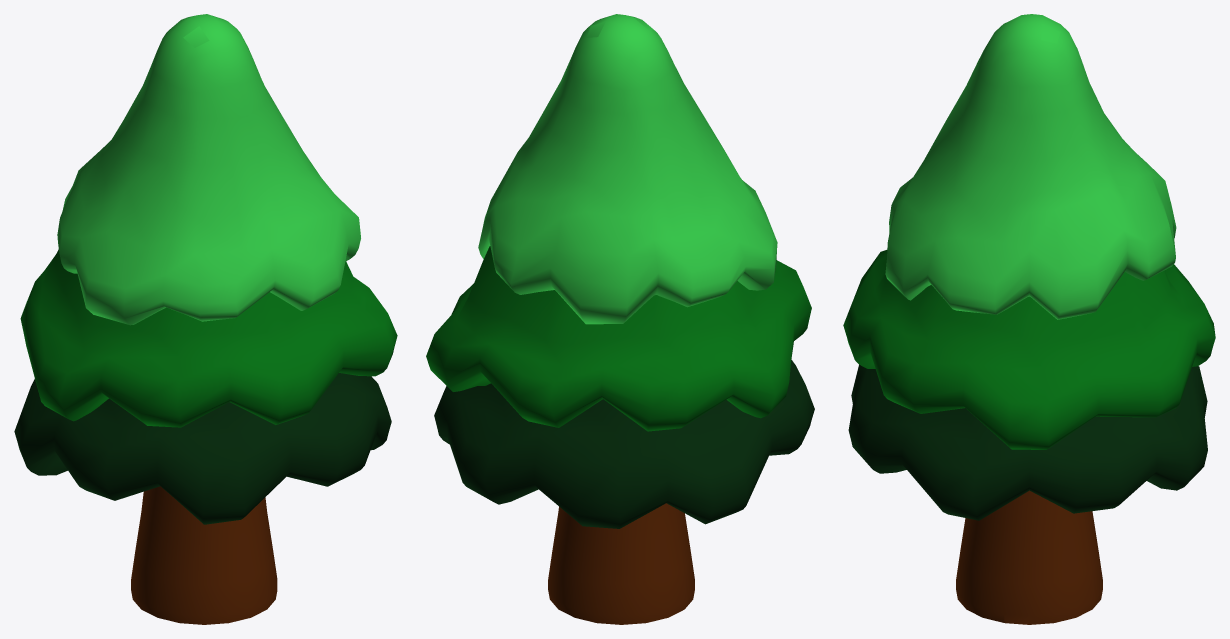
File: Sapin_01_v2.fbx
The picture shows the model from 3 angles, left to right: view 1: azimuth 30°, elevation 25°; view 2: azimuth 150°, elevation 25°; view 3: azimuth 270°, elevation 25°; orthographic projection.
Parts seen in each view (by area): view 1: Feuilles_Haut_low003, Feuilles_Milieu_low002, Feuilles_Bas_low002, Tronc_low008; view 2: Feuilles_Haut_low003, Feuilles_Milieu_low002, Feuilles_Bas_low002, Tronc_low008; view 3: Feuilles_Haut_low003, Feuilles_Milieu_low002, Feuilles_Bas_low002, Tronc_low008.
Part boxes in pixels (x1,y1,x2,y2): Feuilles_Haut_low003: (57, 14, 360, 325); Feuilles_Milieu_low002: (20, 249, 397, 427); Feuilles_Bas_low002: (14, 373, 391, 524); Tronc_low008: (131, 486, 277, 624); Feuilles_Haut_low003: (478, 14, 777, 324); Feuilles_Milieu_low002: (426, 246, 811, 431); Feuilles_Bas_low002: (434, 359, 814, 528); Tronc_low008: (548, 503, 694, 624); Feuilles_Haut_low003: (885, 14, 1176, 319); Feuilles_Milieu_low002: (843, 250, 1215, 449); Feuilles_Bas_low002: (848, 364, 1207, 520); Tronc_low008: (956, 490, 1102, 624).
Size of the model in its own units: 68.87 by 118 by 68.97.
